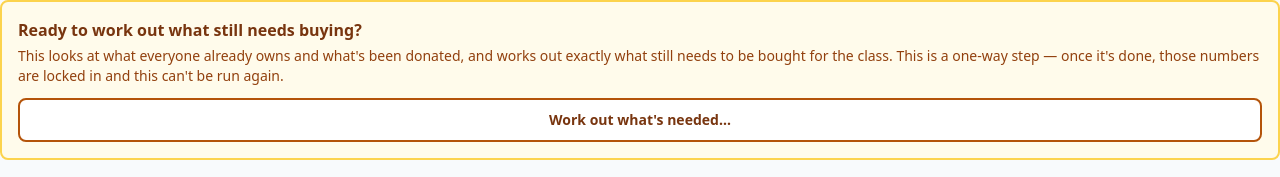
Test case: ReconcileAction › requires a second, explicit step before actually running (one-way action)
Later steps or results of the test are not shown.
Expected: the button "yes, work it out" is not shown
Click the button "Work out what's needed…" at (640, 120), box left=18, top=98, right=1262, bottom=142
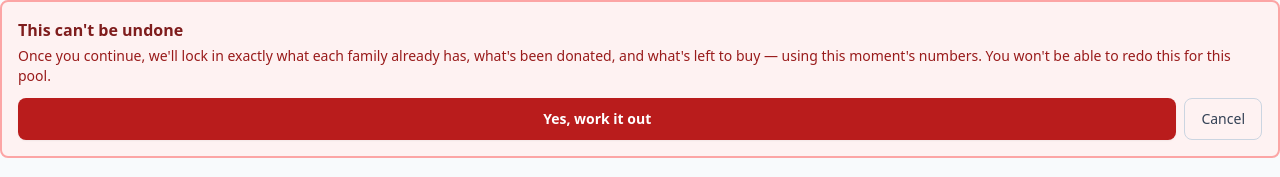
Now the heading "This can't be undone" is shown, box left=18, top=19, right=183, bottom=41
